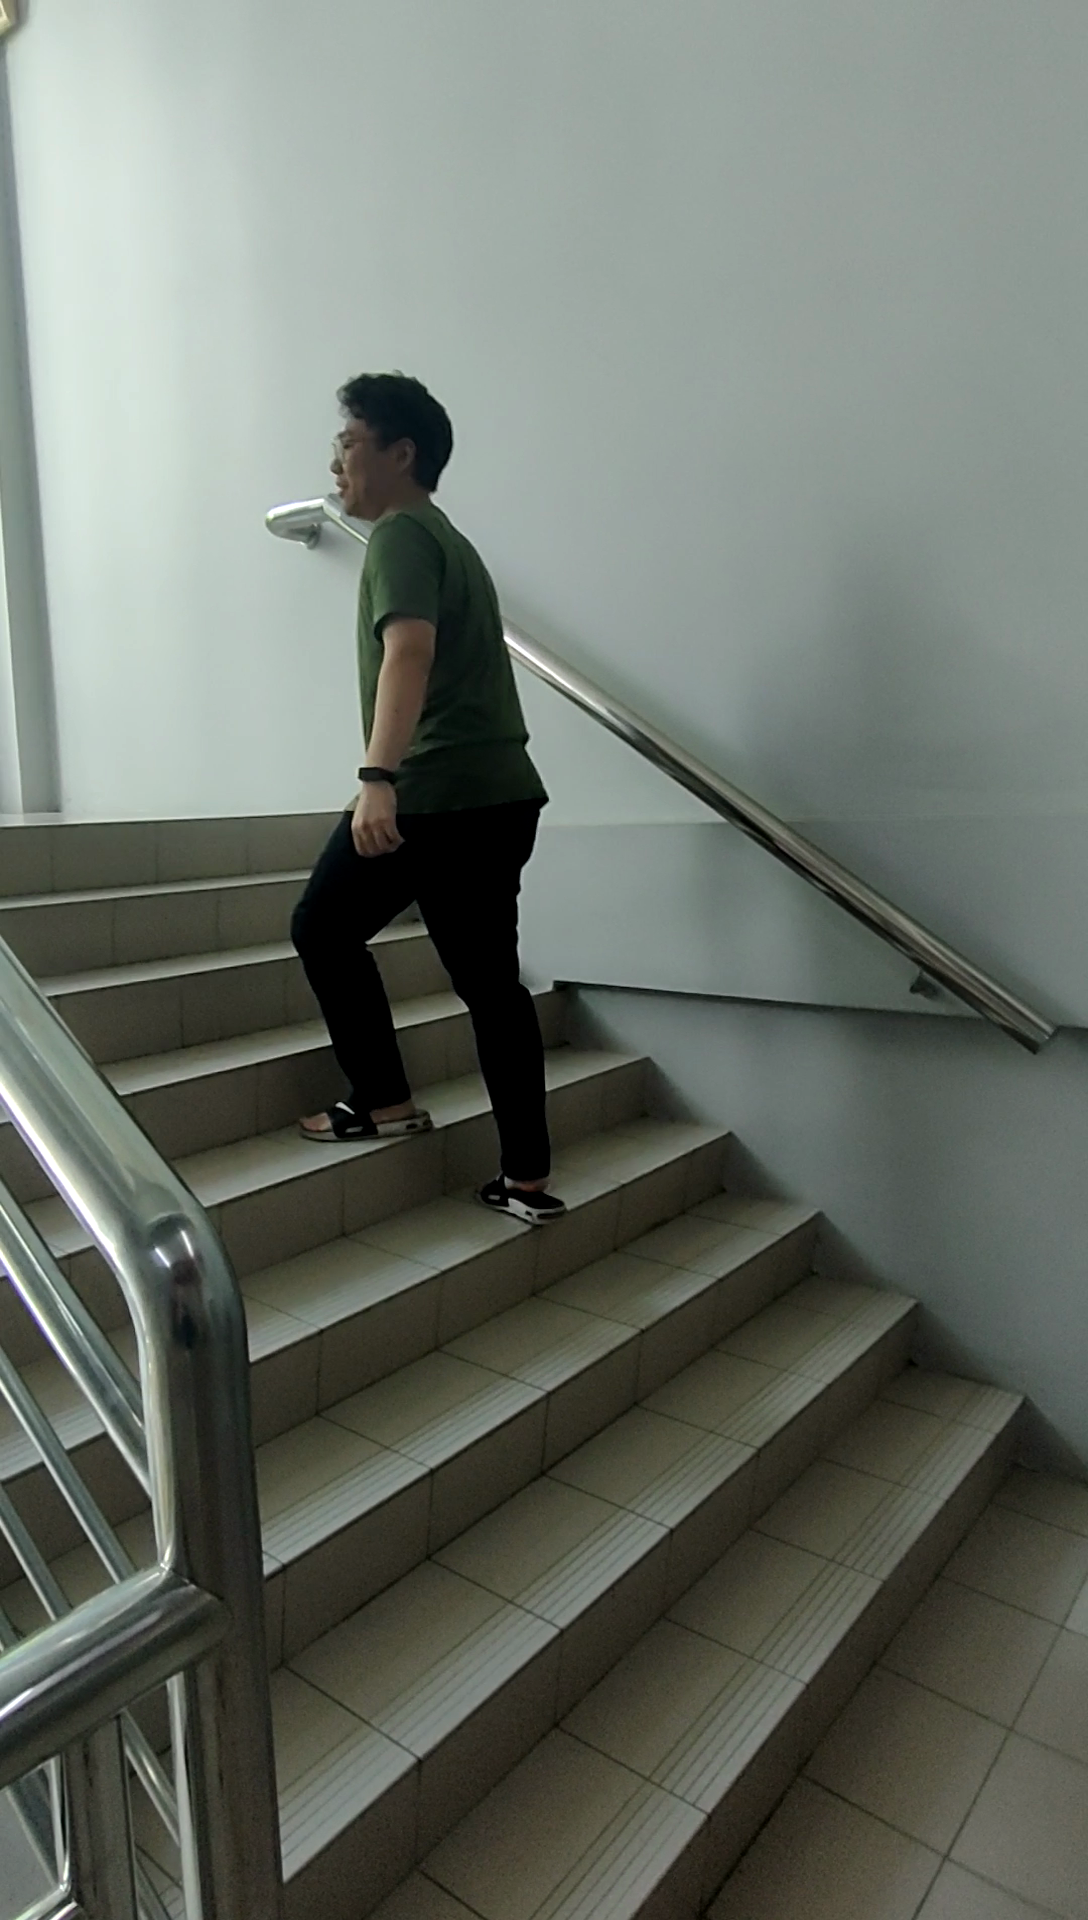walk: (285, 371, 568, 1226)
